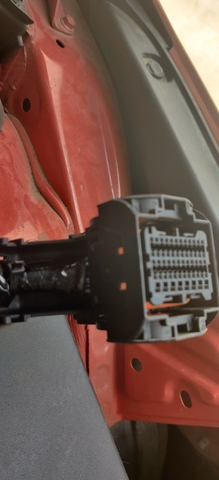connector: (94, 194, 219, 344)
